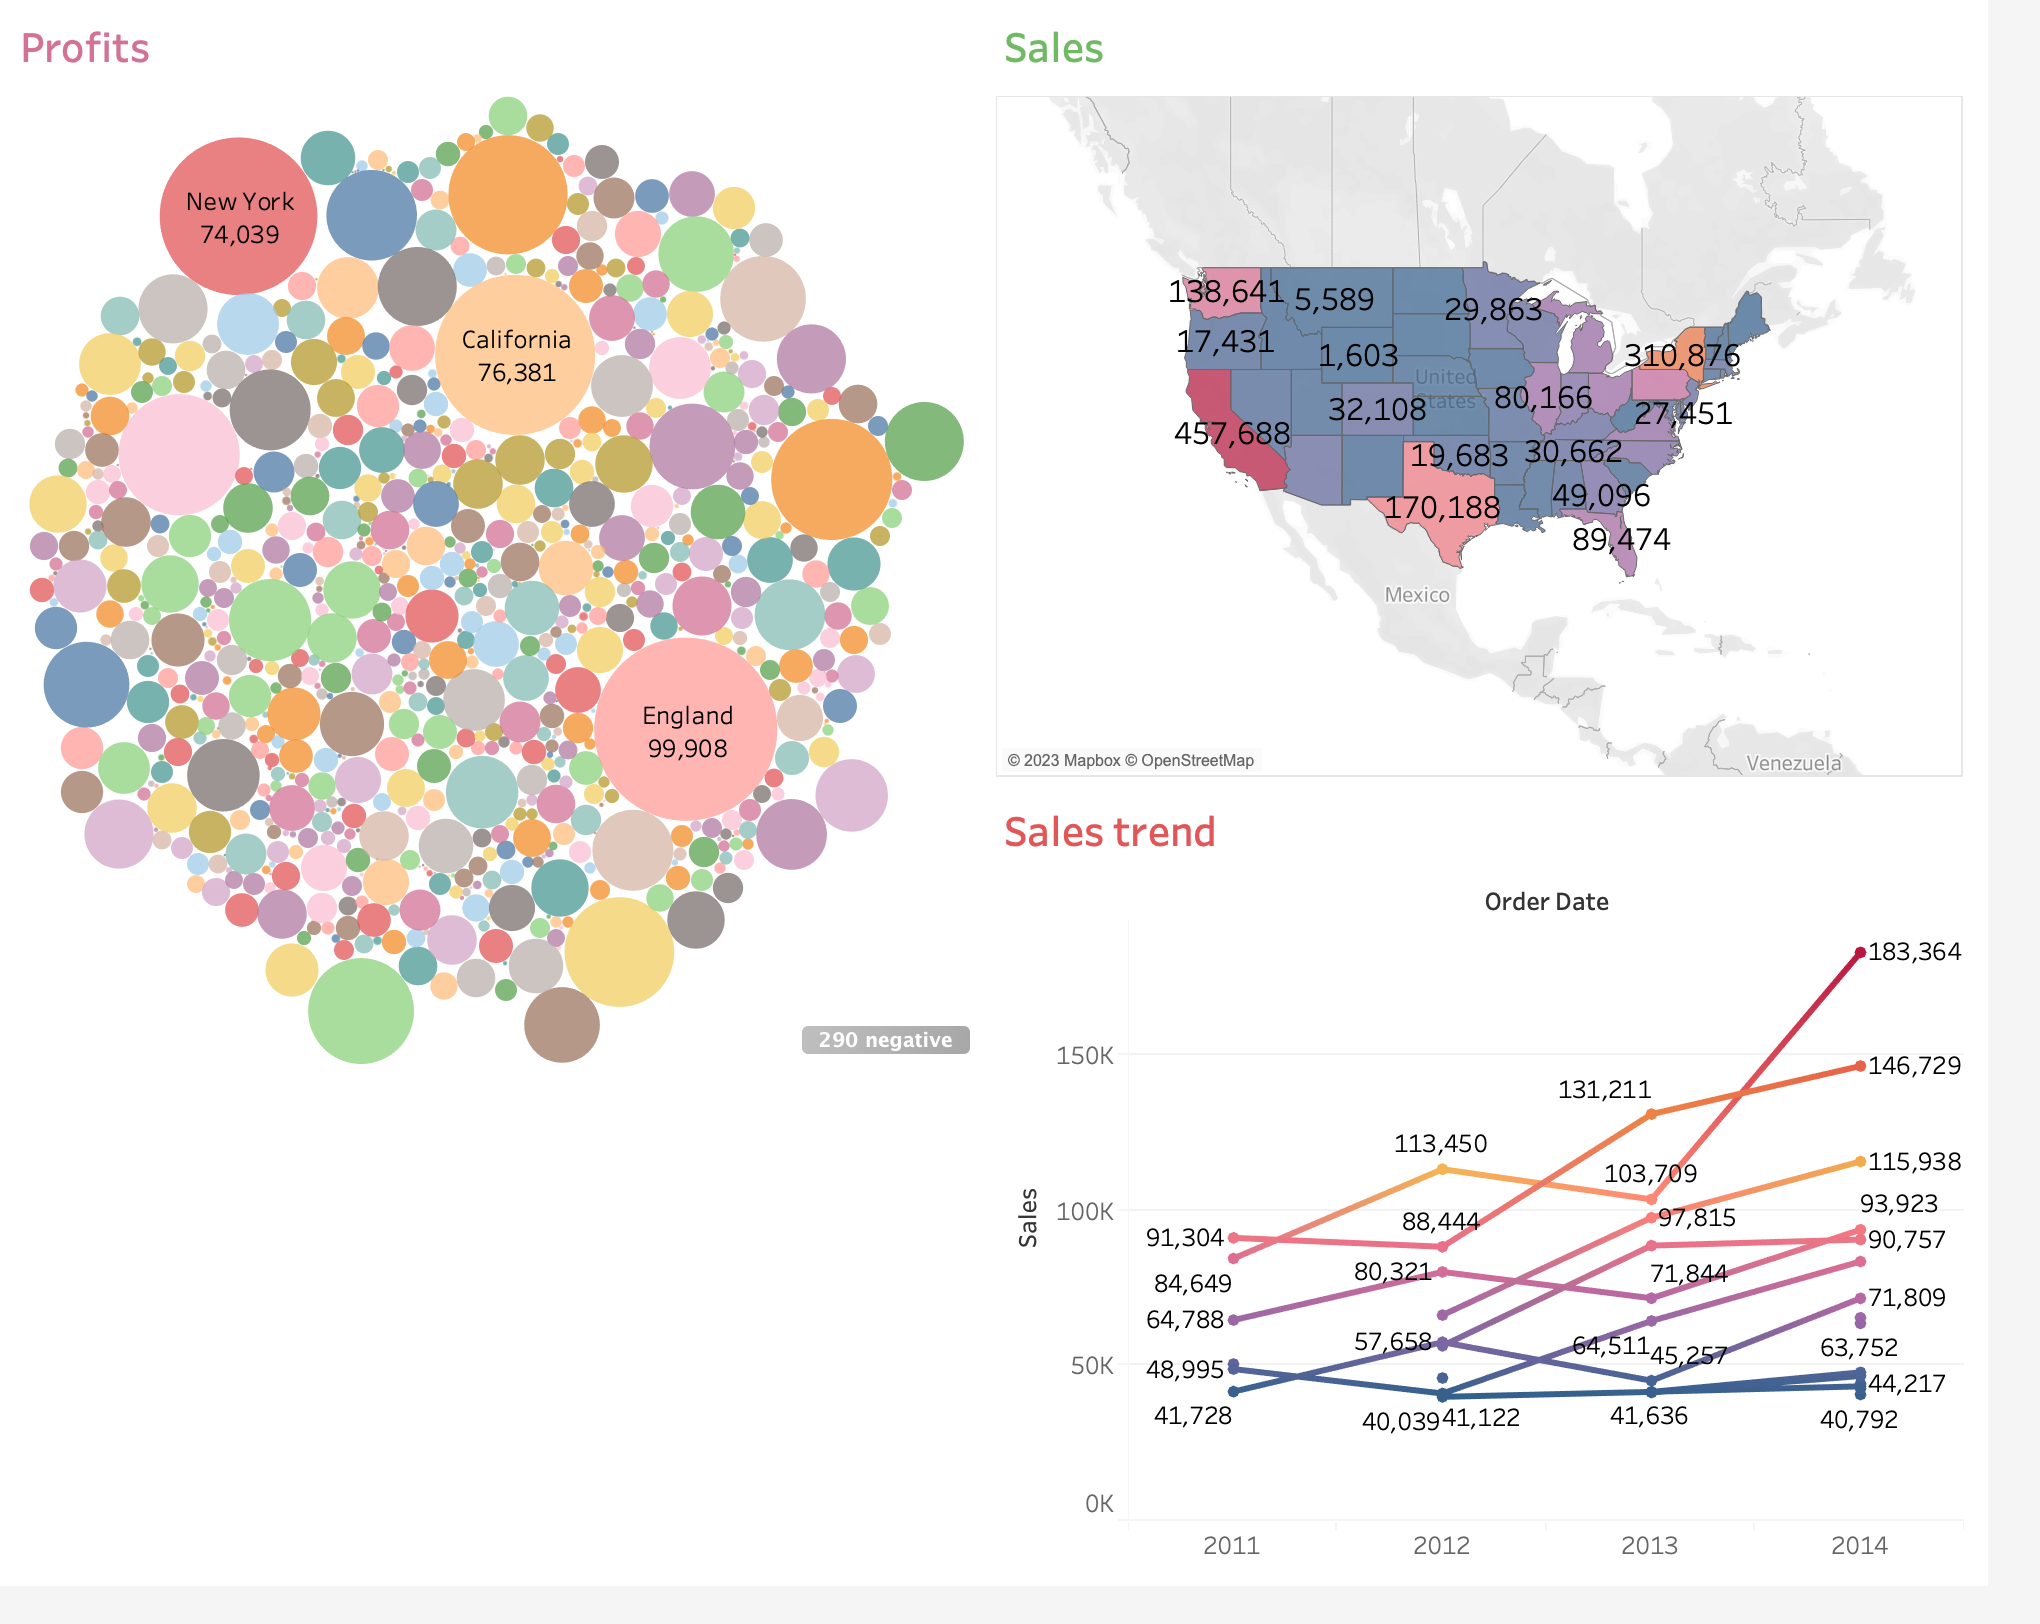

This screenshot's page, from the dashboard's own definition file:
{"tool":"tableau","page":{"name":"Dashboard ","canvas":[1000,800],"ordinal":0},"visuals":[{"type":"worksheet","box":[0,0,1000,800]},{"type":"worksheet","param":"horz","box":[8,8,984,784]},{"type":"worksheet","box":[8,8,984,784]},{"type":"worksheet","title":"Profits","mark":"Circle","box":[8,8,492,784]},{"type":"worksheet","title":"Sales","mark":"Automatic","box":[500,8,492,392]},{"type":"worksheet","title":"Sales trend","mark":"Automatic","rows":["Sales"],"cols":["Order Date"],"box":[500,400,492,392]}]}

Visuals, with their boxes in screenshot pixels (x1, y1, x2, y2), scaled from the page's 1000x800 canvas onto the 2040x1624 screenshot:
worksheet: <bbox>0, 0, 2039, 1623</bbox>
worksheet: <bbox>16, 16, 2024, 1608</bbox>
worksheet: <bbox>16, 16, 2024, 1608</bbox>
"Profits" worksheet (Circle marks): <bbox>16, 16, 1020, 1608</bbox>
"Sales" worksheet: <bbox>1020, 16, 2024, 812</bbox>
"Sales trend" worksheet: <bbox>1020, 812, 2024, 1608</bbox>
